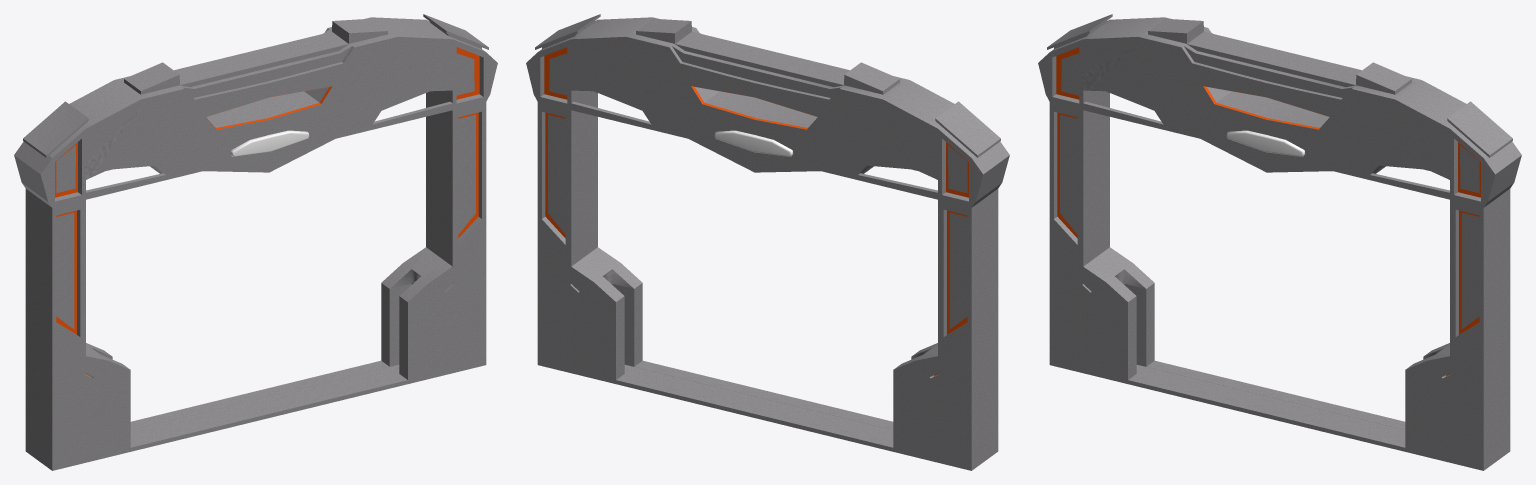
Rendered from Finish Gate.fbx.
The picture shows the model from 3 angles, left to right: view 1: azimuth 30°, elevation 25°; view 2: azimuth 150°, elevation 25°; view 3: azimuth 330°, elevation 25°; orthographic projection.
Visible parts, largest first — view 1: Finish Gate, Neon 1, Light 1; view 2: Finish Gate, Neon 1, Light 1; view 3: Finish Gate, Neon 1, Light 1.
Boxes of the visible parts, x1,y1,x2,y2 form: Finish Gate: (14,14,497,470); Neon 1: (55,47,479,375); Light 1: (230,130,309,156); Finish Gate: (526,14,1009,470); Neon 1: (544,47,968,375); Light 1: (714,130,793,156); Finish Gate: (1038,14,1521,470); Neon 1: (1056,47,1480,375); Light 1: (1226,130,1305,156).
Bounding box in the file's own units: 83.49 × 62.89 × 9.7.
